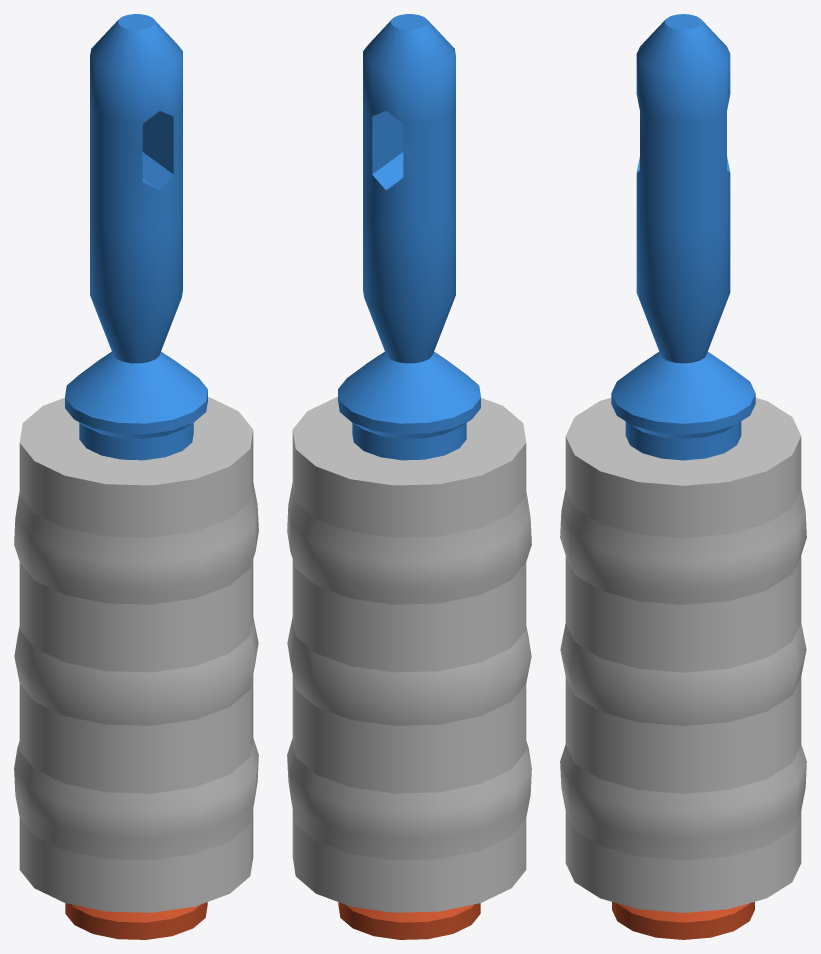
Rendered from Roller6.fbx.
3 views of the same model, side by side, from view 1: azimuth 30°, elevation 25°; view 2: azimuth 150°, elevation 25°; view 3: azimuth 270°, elevation 25° (orthographic).
Visible parts, largest first — view 1: Base_Cylinder, Cylinder_2, Base; view 2: Base_Cylinder, Cylinder_2, Base; view 3: Base_Cylinder, Cylinder_2, Base.
Part boxes in pixels (box(x1,y1,x2,y2)): Base_Cylinder: box(19, 431, 253, 912); Cylinder_2: box(14, 396, 258, 860); Base: box(65, 14, 207, 939); Base_Cylinder: box(292, 431, 526, 912); Cylinder_2: box(287, 396, 531, 860); Base: box(338, 14, 480, 939); Base_Cylinder: box(565, 436, 801, 912); Cylinder_2: box(560, 398, 806, 860); Base: box(611, 14, 755, 939).
Bounding box in the file's own units: 105 × 416 × 105.
